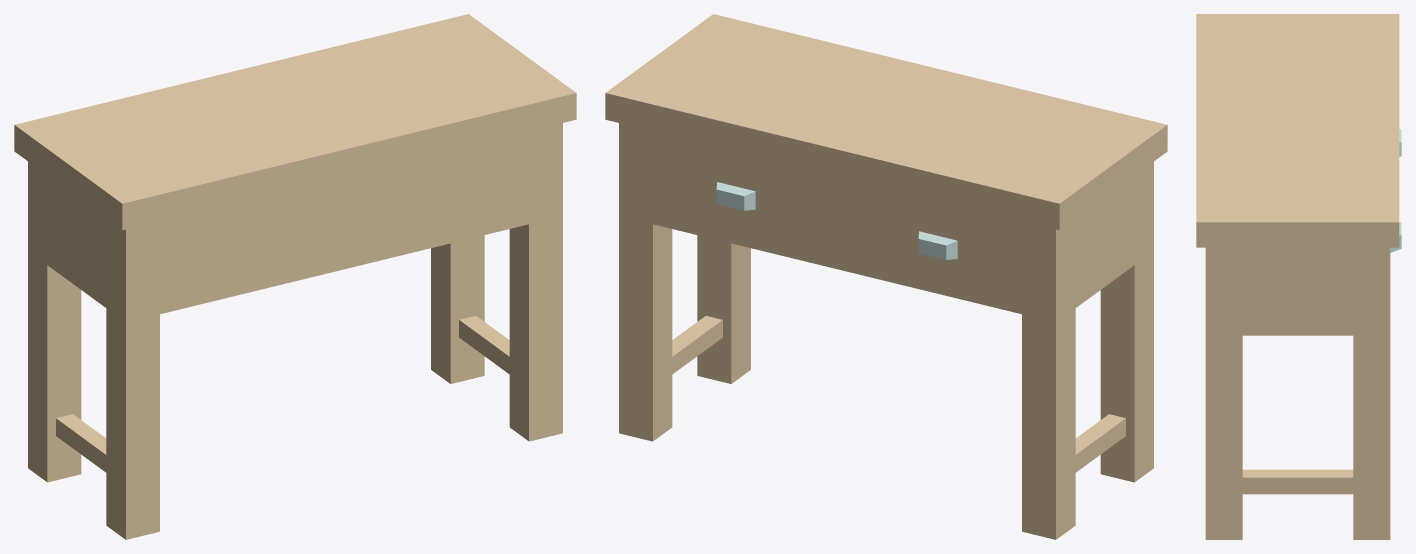
Rendered from sideTableDrawers.glb.
The picture shows the model from 3 angles, left to right: view 1: azimuth 30°, elevation 25°; view 2: azimuth 150°, elevation 25°; view 3: azimuth 270°, elevation 25°; orthographic projection. The views are drawn at different scales.
Parts seen in each view (by area): view 1: sideTableDrawers; view 2: sideTableDrawers; view 3: sideTableDrawers.
Boxes of the visible parts, bbox=[...] form: sideTableDrawers: bbox=[14, 14, 576, 539]; sideTableDrawers: bbox=[605, 14, 1167, 539]; sideTableDrawers: bbox=[1196, 14, 1401, 539].
Size of the model in its own units: 5.34 by 3.84 by 2.22.
